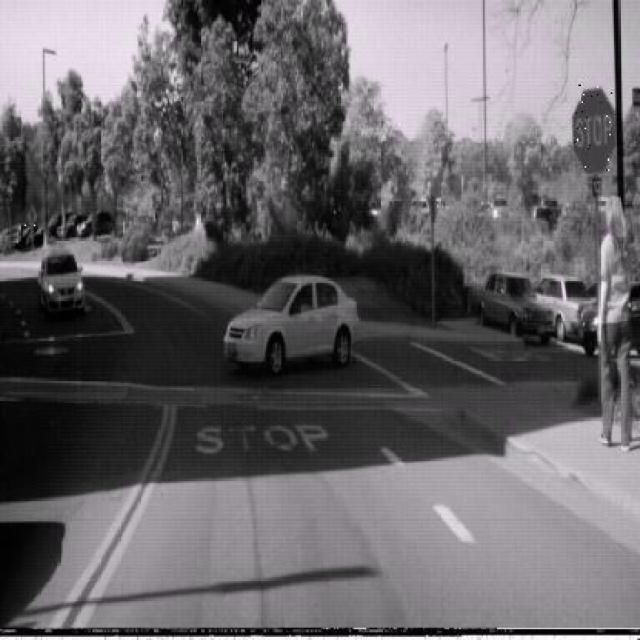pedestrianCrossing: (24, 202, 38, 230)
stop: (572, 84, 616, 176)
